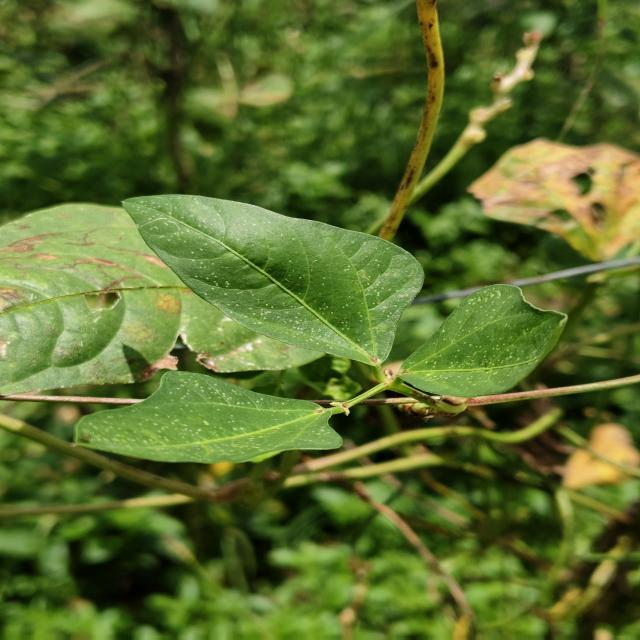sitaw-aphid-high: (0, 204, 319, 401), (124, 195, 424, 365), (74, 371, 343, 463), (396, 284, 567, 417)
sitaw-aphid-moderate: (365, 0, 511, 241)
